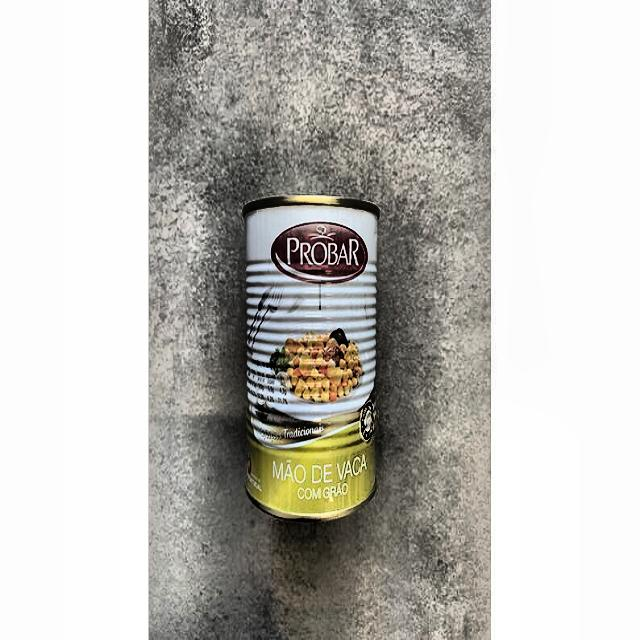Cans: (239, 195, 379, 526)
